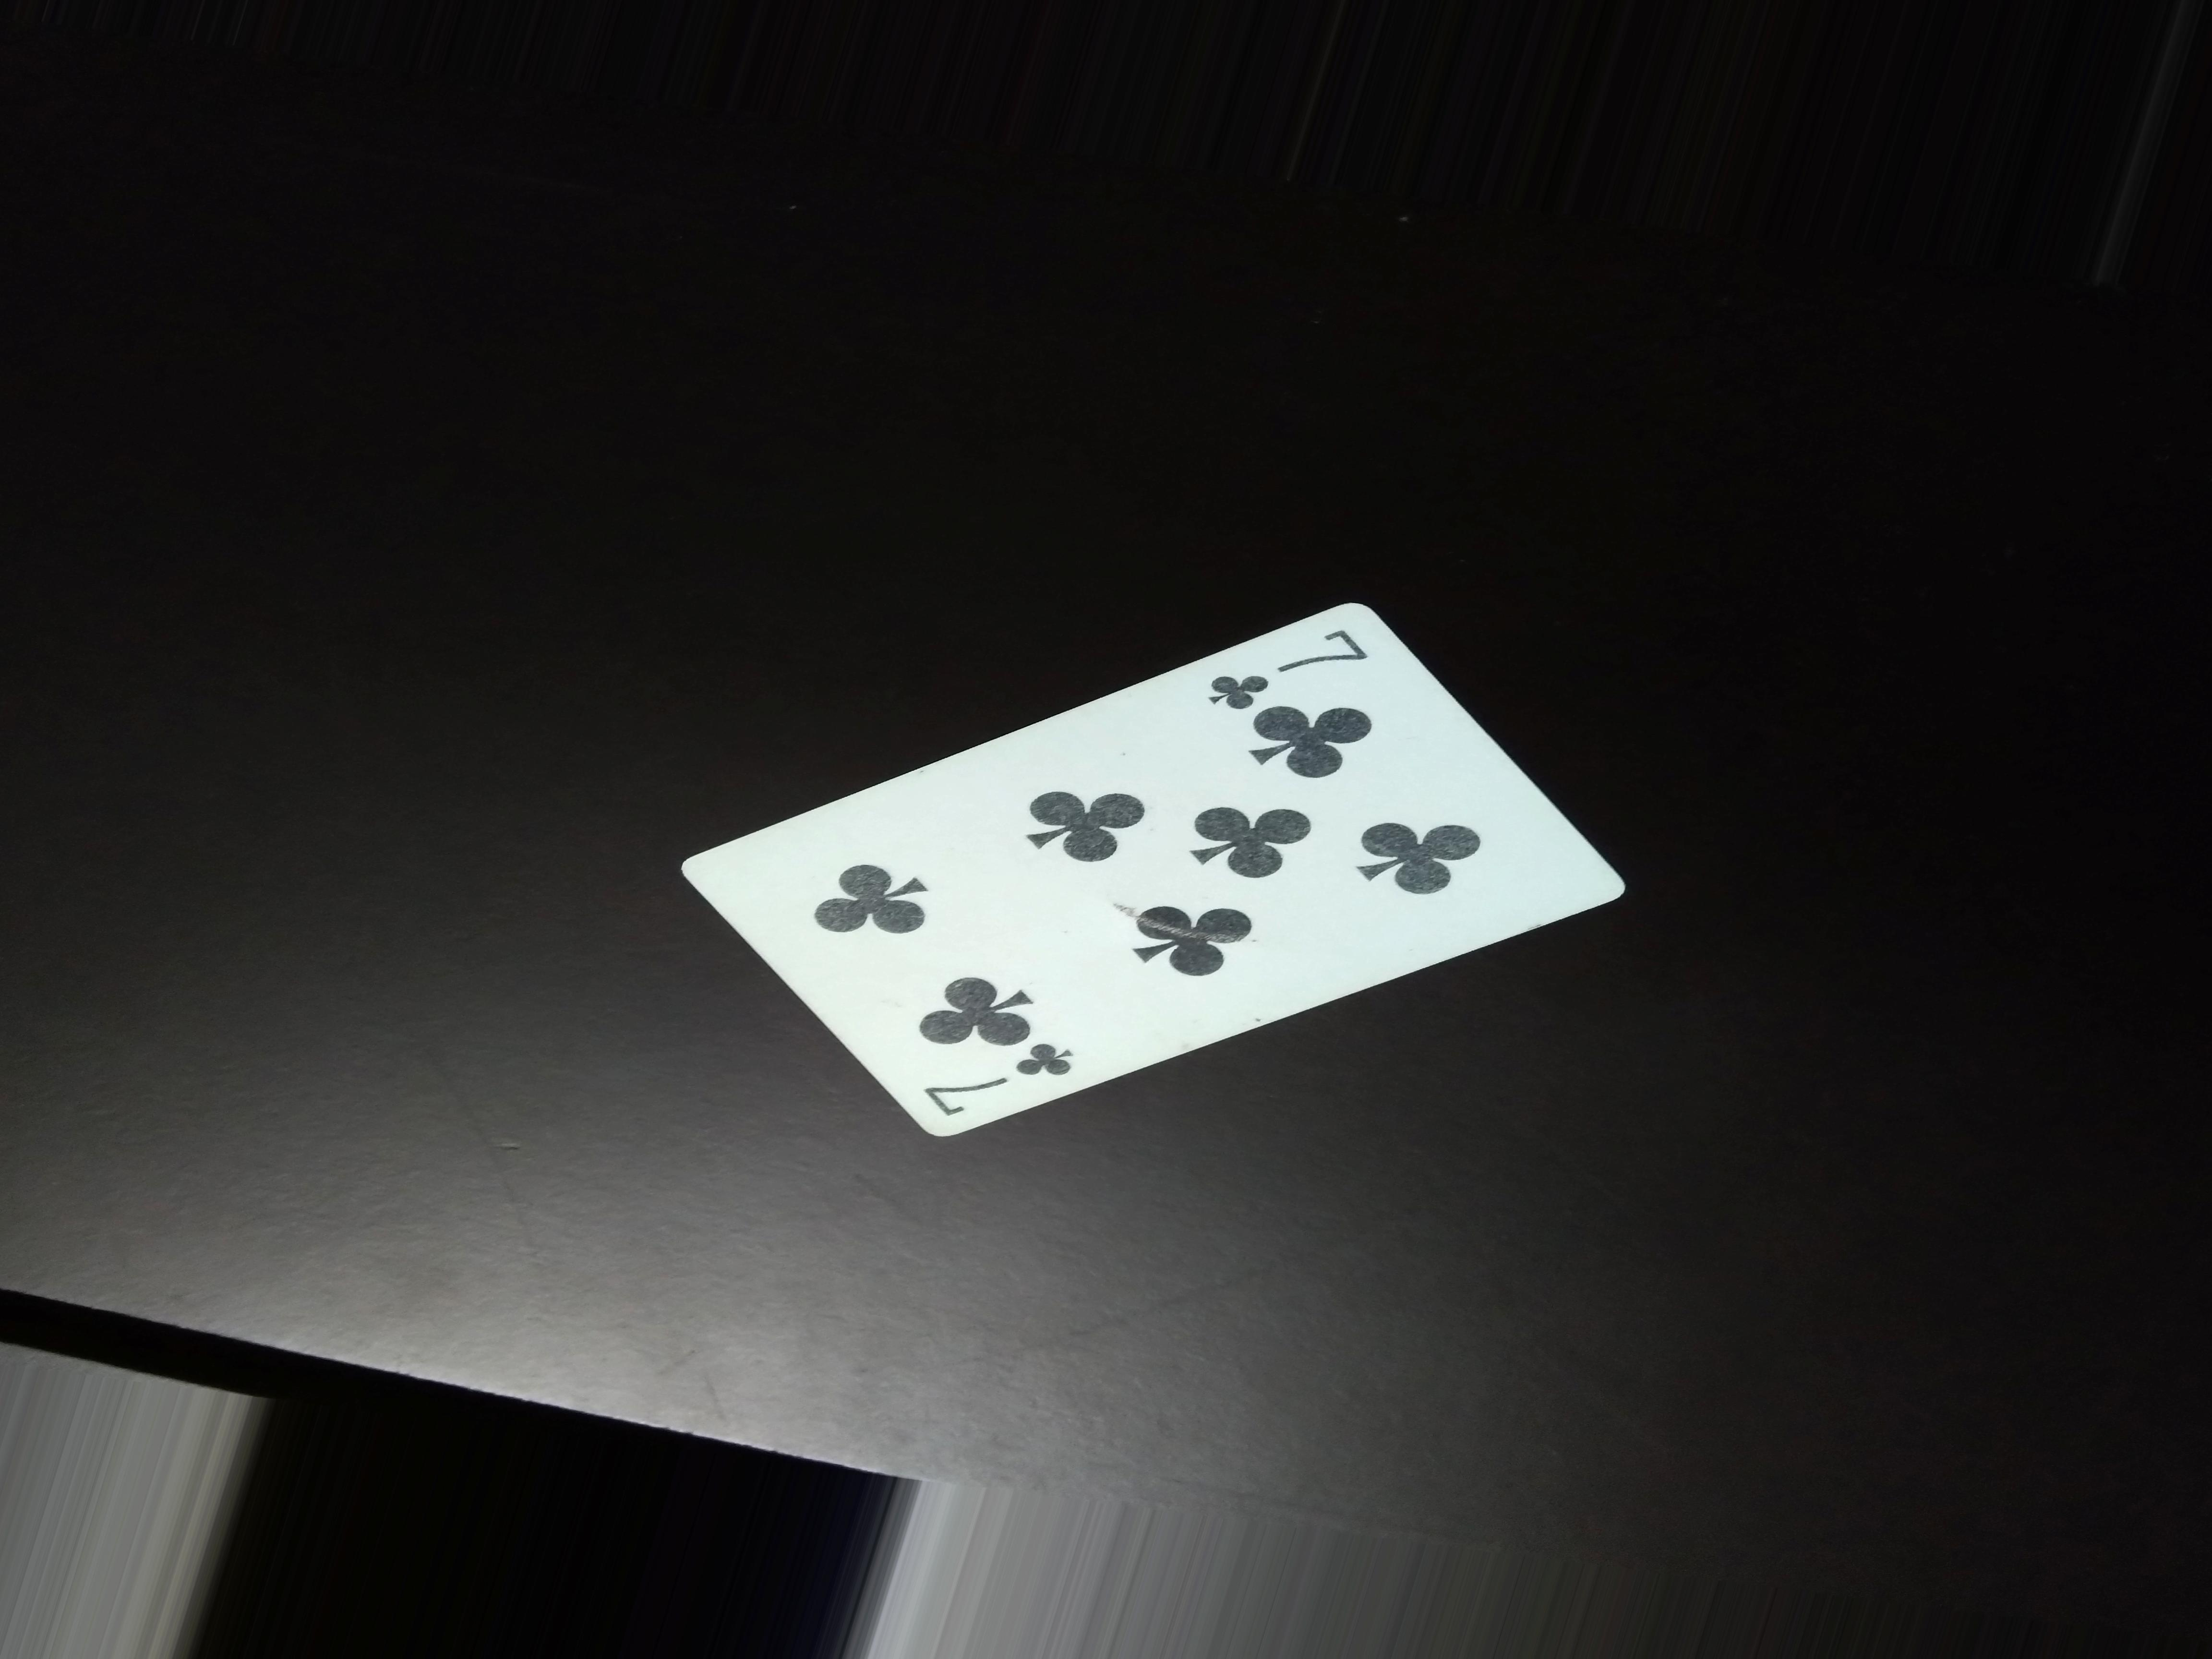7C: (1202, 598, 1392, 716)
